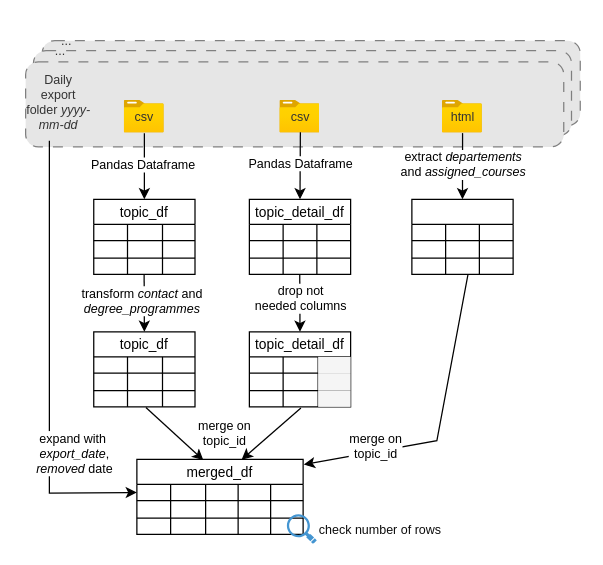
The diagram is 603 pixels wide and 565 high, and some of its shapes have lost their labels. The shapes that lost their labels are listed below. From the top down, each one's box as (x1, y1, x2, y2) in pixels, then its label:
(124, 100, 164, 132): db-topics
(279, 100, 319, 132): db-topics-additional
(442, 100, 482, 132): thesis detail export
(411, 198, 513, 274): html_details_df
